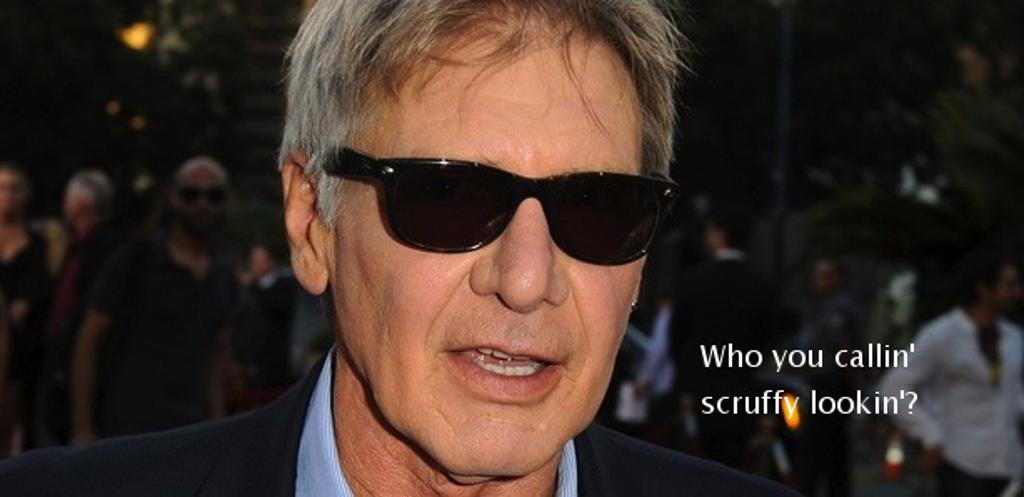face: (344, 30, 644, 478)
